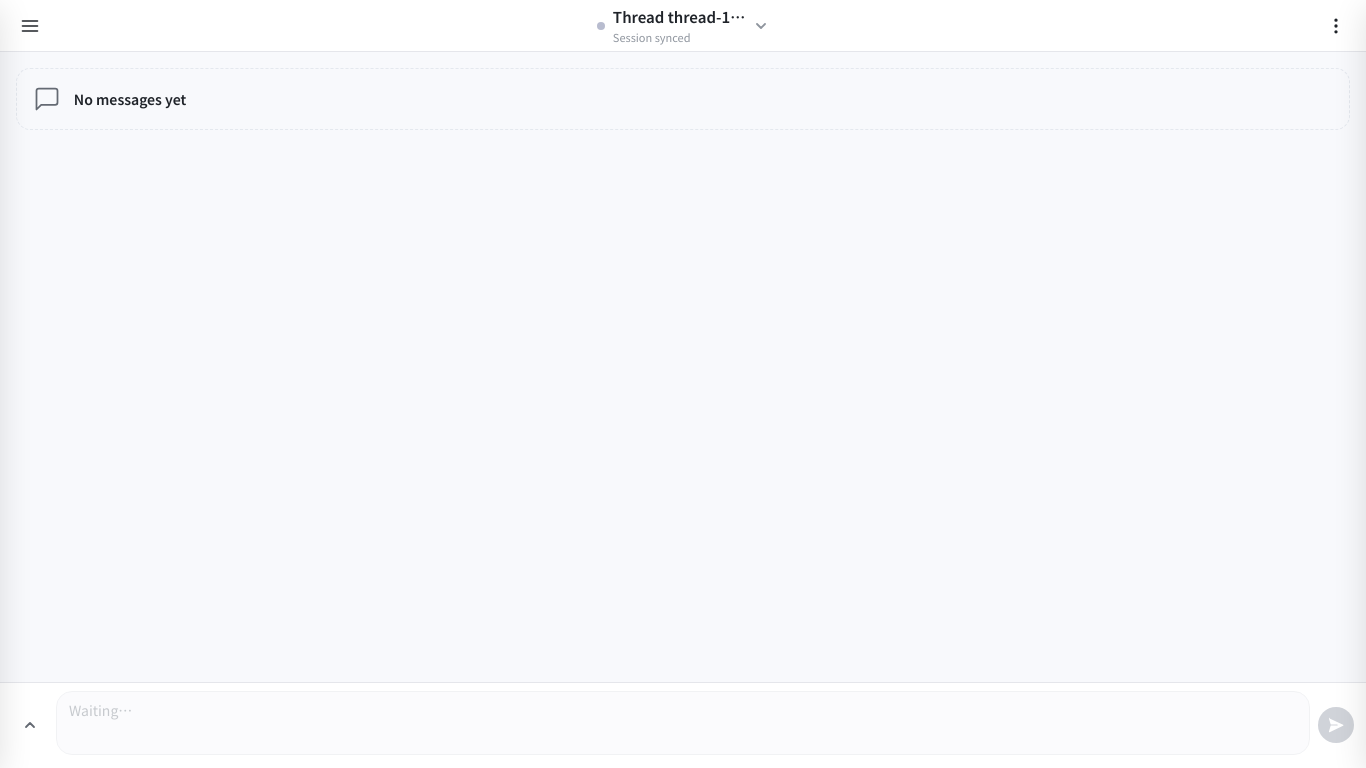
Test: ChatPageLayout workspace actions › shows restart progress and disables workspace-changing actions while restarting
Expected: the text "Session synced" is shown, 613,29 -> 690,45
Click the button named "Toggle workspace sidebar".
click(30, 26)  # box 12,8 -> 48,44
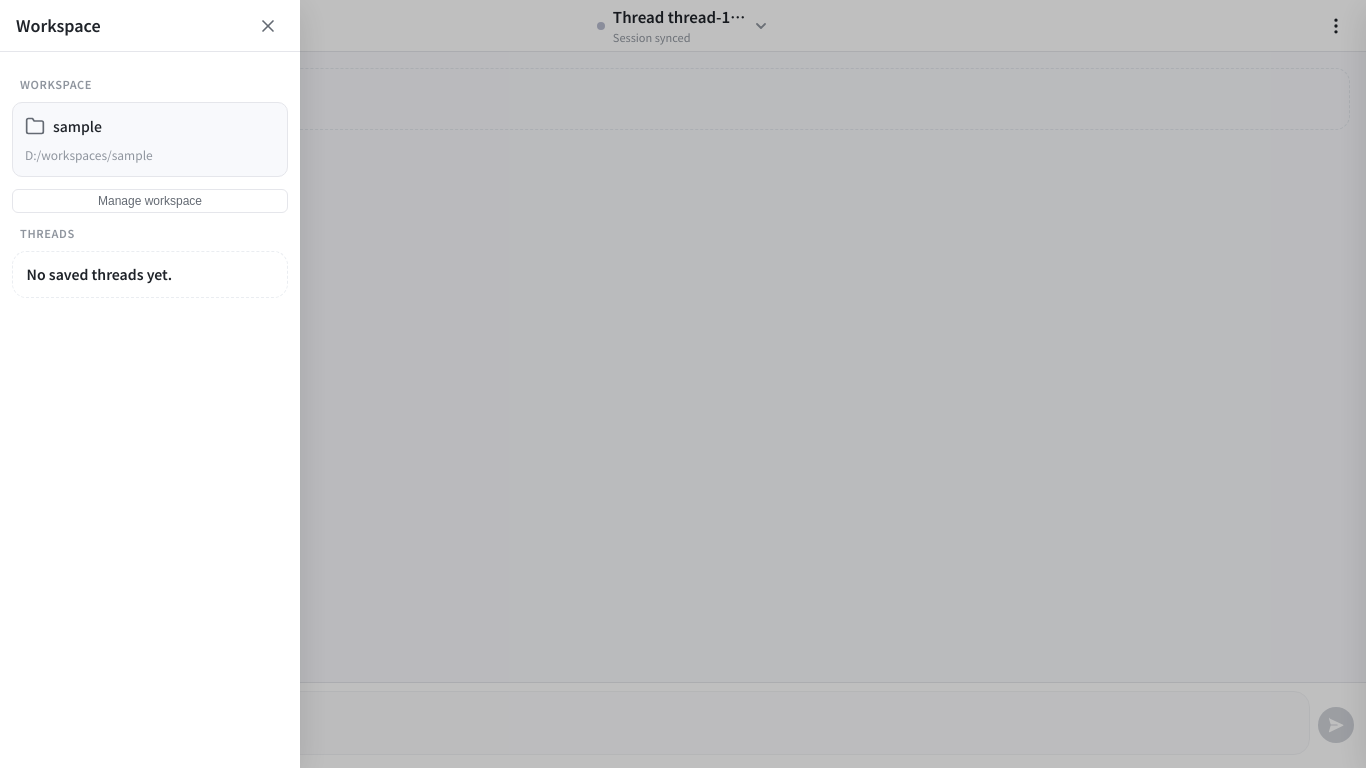
Click the button "Manage workspace".
click(150, 201)  # box 12,189 -> 288,213
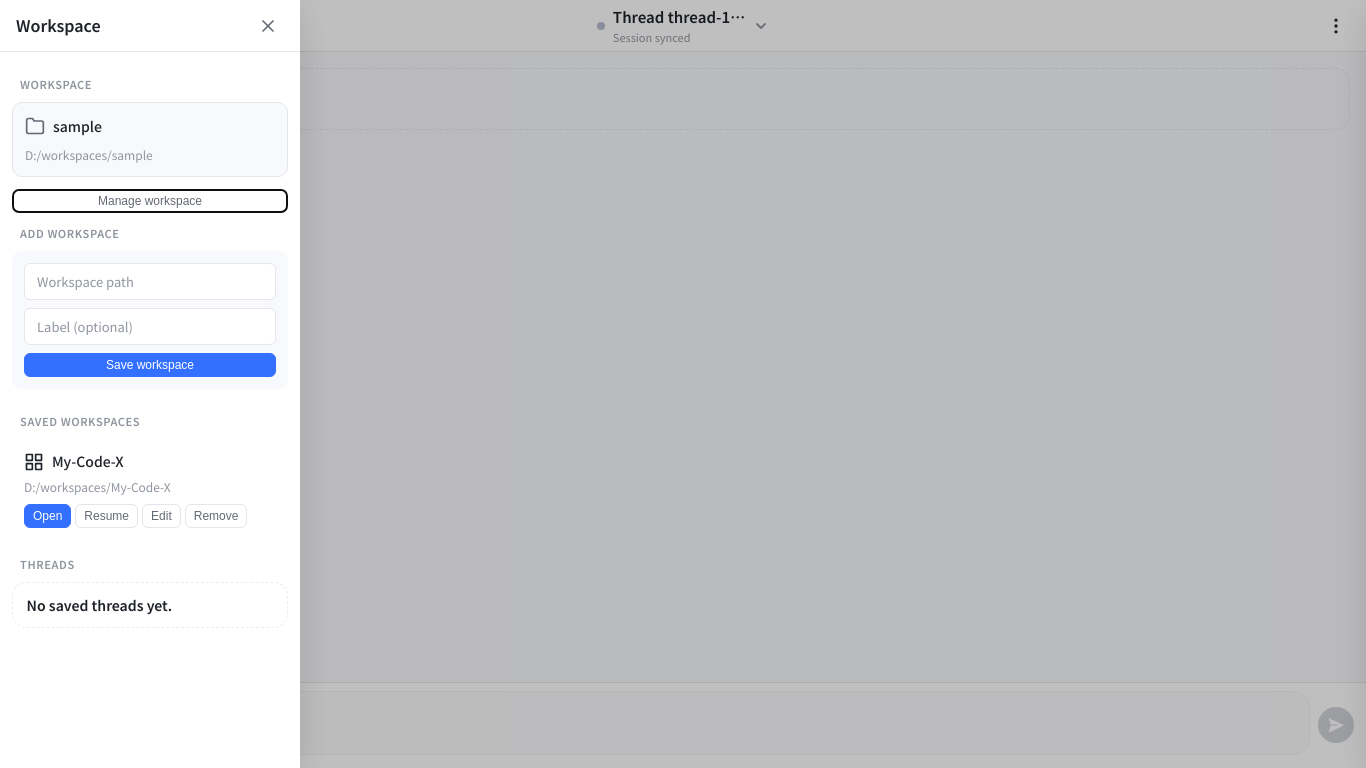
Expected: the button "Open" is disabled, 24,504 -> 71,528
Expected: the button "Resume" is disabled, 75,504 -> 138,528
